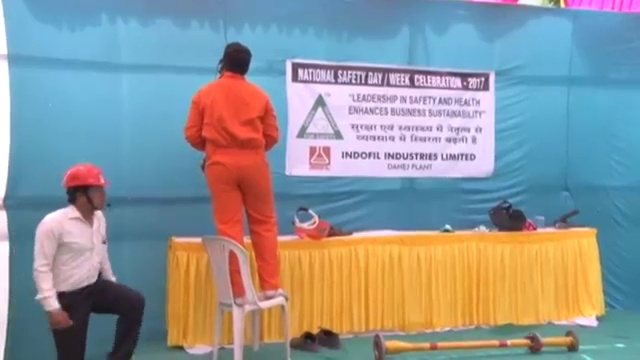helmet: (62, 161, 110, 189)
helmet_off: (216, 40, 253, 78)
helmet_on: (61, 161, 109, 215)
person: (183, 41, 293, 304), (31, 159, 143, 360)
